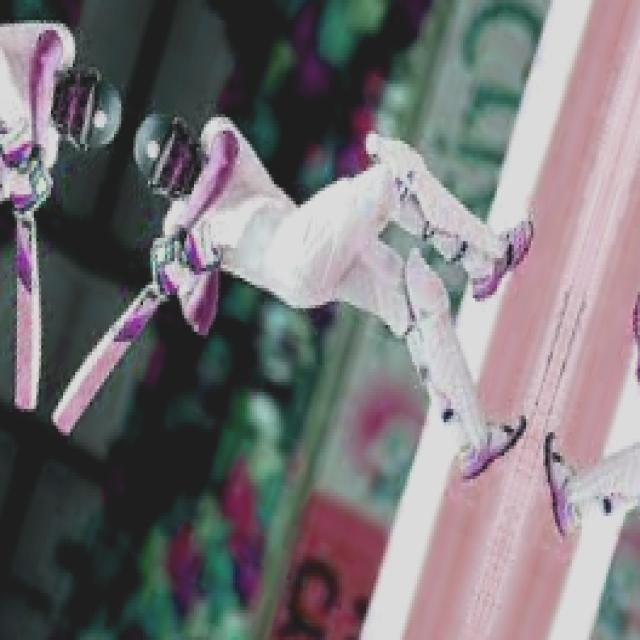toe: (47, 412, 82, 437)
